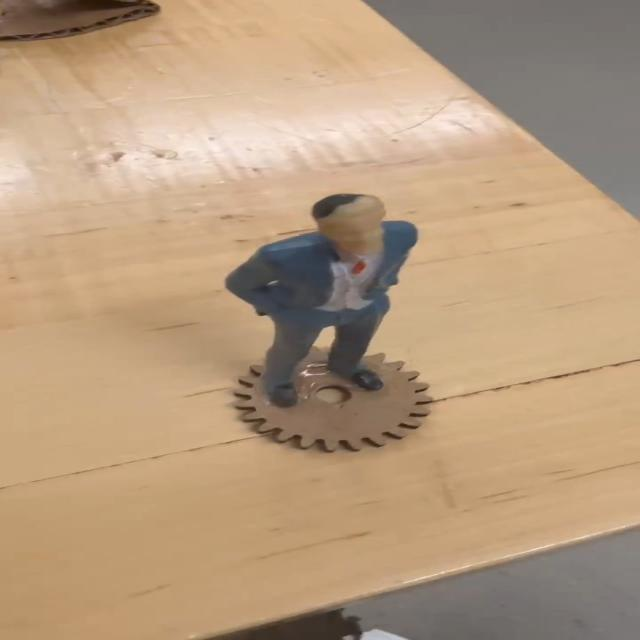Authorized: (228, 188, 419, 408)
